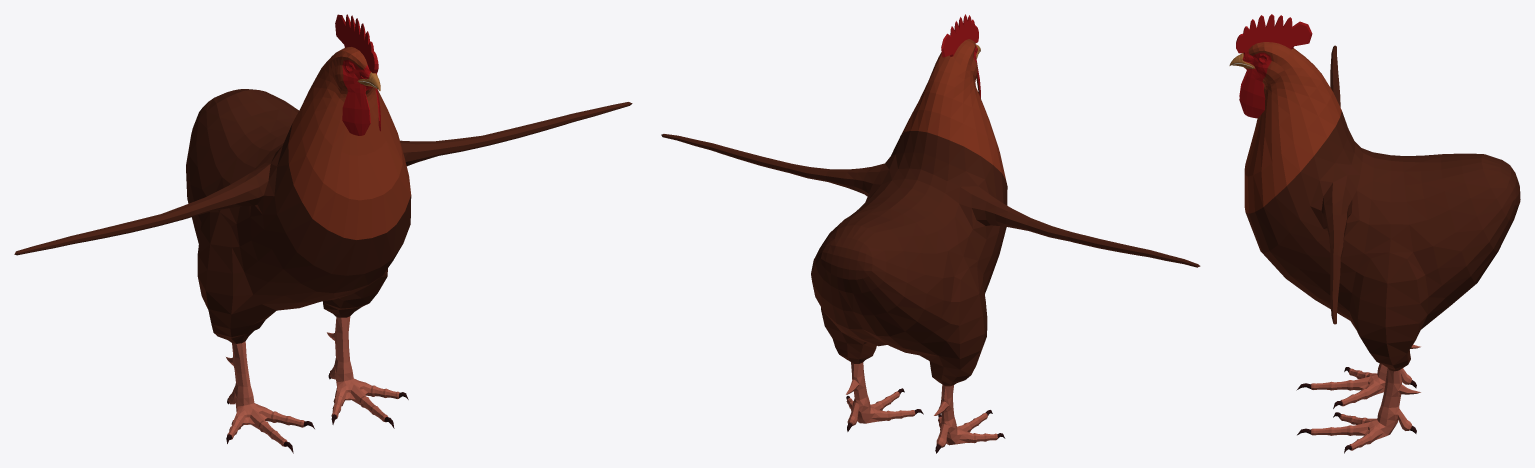
File: rooster_cock_triangulated.obj
The picture shows the model from 3 angles, left to right: view 1: azimuth 30°, elevation 25°; view 2: azimuth 150°, elevation 25°; view 3: azimuth 270°, elevation 25°; orthographic projection. The views are drawn at different scales.
Size of the model in its own units: 0.6338 by 0.4252 by 0.2804.
